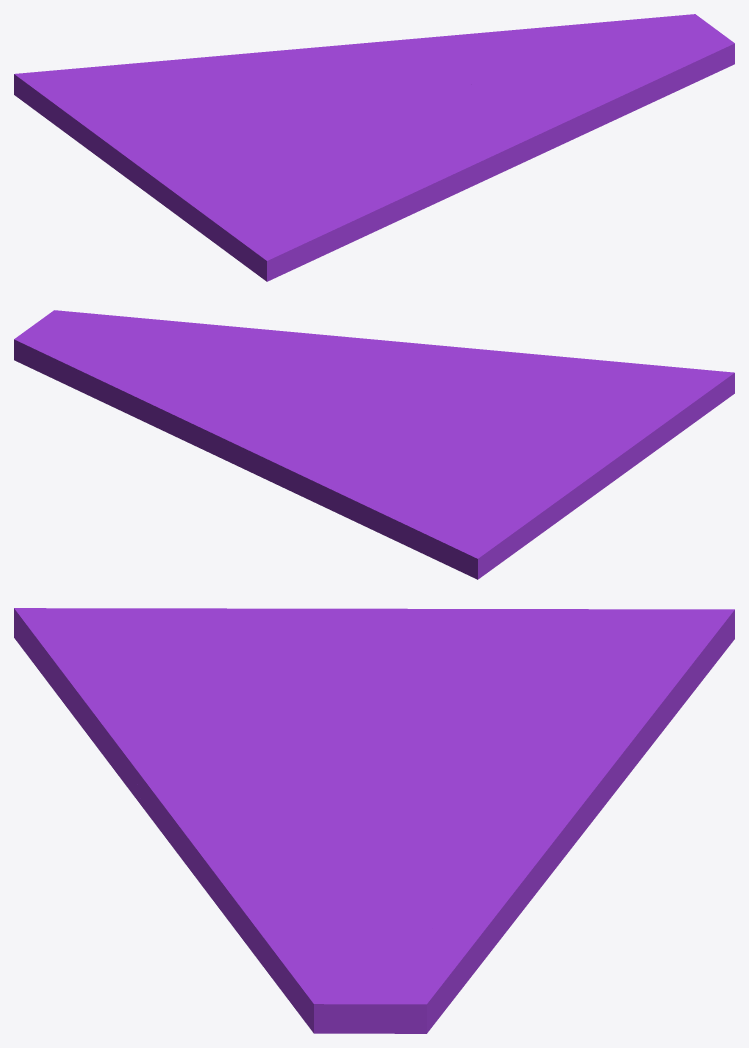
File: StairsStep_10_chunks.fbx
3 renders of one model, top to bottom at view 1: azimuth 30°, elevation 25°; view 2: azimuth 150°, elevation 25°; view 3: azimuth 270°, elevation 25°, orthographic. The views are drawn at different scales.
Parts seen in each view (by area): view 1: StairsStep_10_0, StairsStep_10_1, StairsStep_10_3, StairsStep_10_2; view 2: StairsStep_10_0, StairsStep_10_3, StairsStep_10_1, StairsStep_10_2; view 3: StairsStep_10_0, StairsStep_10_1, StairsStep_10_3, StairsStep_10_2.
Boxes of the visible parts, x1,y1,x2,y2 form: StairsStep_10_0: (14, 60, 468, 281); StairsStep_10_1: (462, 14, 734, 181); StairsStep_10_3: (167, 19, 632, 97); StairsStep_10_2: (416, 88, 538, 187); StairsStep_10_0: (325, 348, 734, 579); StairsStep_10_3: (56, 359, 374, 527); StairsStep_10_1: (14, 310, 338, 387); StairsStep_10_2: (283, 336, 467, 399); StairsStep_10_0: (14, 608, 734, 808); StairsStep_10_1: (152, 820, 465, 1033); StairsStep_10_3: (377, 697, 666, 983); StairsStep_10_2: (131, 763, 382, 838).
Bounding box in the file's own units: 516 × 17.94 × 397.
